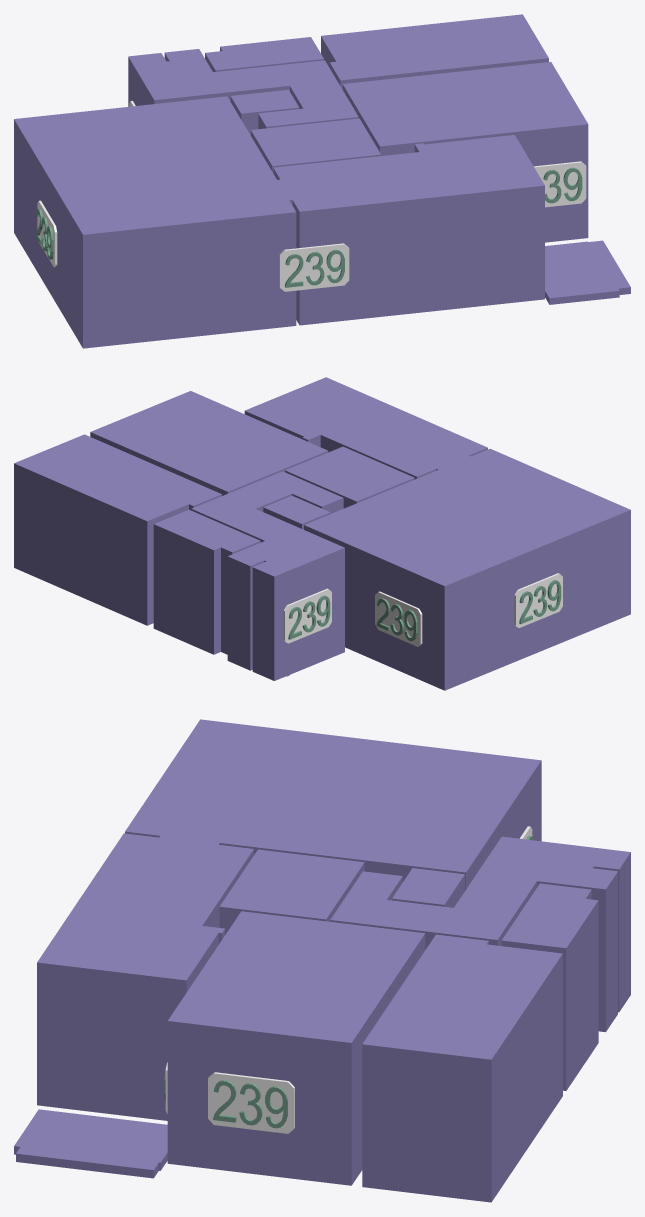
3 views of the same model, one above another, from view 1: azimuth 30°, elevation 25°; view 2: azimuth 150°, elevation 25°; view 3: azimuth 270°, elevation 25° (orthographic). The views are drawn at different scales.
Parts seen in each view (by area): view 1: g_1, g_0, g_3, g_4, g_7, g_2, g_8, g_5, g_24, g_6, g_20, g_16; view 2: g_1, g_4, g_7, g_3, g_0, g_5, g_2, g_16, g_12, g_28, g_6; view 3: g_3, g_1, g_4, g_0, g_7, g_5, g_8, g_2, g_32, g_6.
Boxes of the visible parts, x1,y1,x2,y2 form: g_1: (14,96,296,348); g_0: (273,135,544,325); g_3: (342,62,588,242); g_4: (321,14,548,89); g_7: (128,49,358,129); g_2: (251,118,381,172); g_8: (545,240,630,304); g_5: (205,37,323,72); g_24: (279,243,349,291); g_6: (230,90,299,135); g_20: (534,161,586,207); g_16: (37,200,57,267); g_1: (304,448,630,690); g_4: (14,434,221,625); g_7: (191,471,344,680); g_3: (90,391,328,495); g_0: (244,377,487,479); g_5: (153,509,260,654); g_2: (285,446,414,508); g_16: (514,573,562,627); g_12: (283,588,331,643); g_28: (375,591,422,646); g_6: (263,495,330,529); g_3: (167,911,425,1185); g_1: (125,719,541,890); g_4: (362,934,562,1202); g_0: (37,833,253,1120); g_7: (330,836,630,1032); g_5: (501,883,598,1090); g_8: (14,1109,167,1178); g_2: (219,849,364,934); g_32: (208,1072,294,1133); g_6: (392,868,464,907).
Size of the model in its own units: 13.16 by 2.74 by 10.08.
